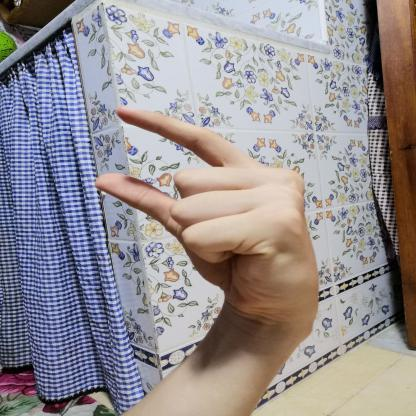DELL: (80, 99, 336, 336)
